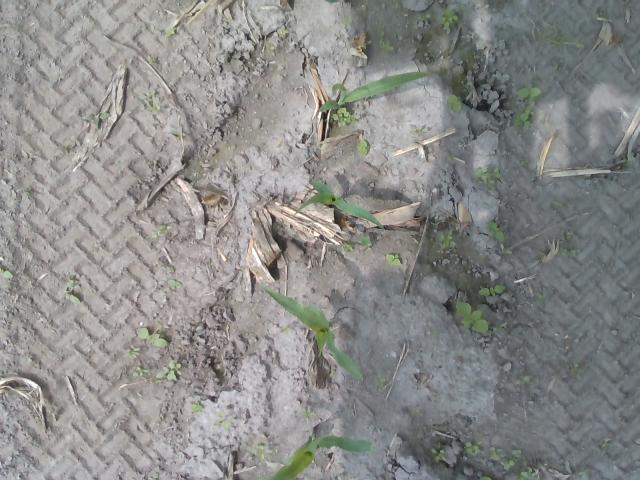Maize: (255, 284, 365, 383), (296, 174, 386, 230), (270, 432, 374, 480)
Weeds: (454, 300, 488, 332), (472, 164, 506, 192), (490, 447, 521, 472), (136, 326, 168, 350), (59, 274, 82, 303), (156, 360, 182, 384), (438, 8, 460, 36), (557, 230, 578, 258), (516, 84, 542, 105), (342, 235, 372, 253), (477, 282, 507, 299), (140, 90, 161, 114), (510, 109, 534, 130), (331, 108, 354, 126), (488, 221, 506, 242), (253, 440, 271, 461), (438, 231, 456, 250), (379, 36, 399, 53), (513, 372, 537, 386), (384, 250, 401, 269), (430, 447, 448, 464), (446, 93, 462, 112), (463, 440, 480, 457), (132, 364, 149, 380), (410, 123, 430, 136), (219, 414, 233, 432), (518, 468, 538, 480), (154, 222, 168, 238), (96, 112, 110, 128), (166, 276, 184, 288), (126, 344, 140, 359), (359, 137, 369, 156), (415, 12, 432, 22), (301, 406, 315, 418), (372, 373, 386, 385), (275, 26, 289, 38), (600, 436, 613, 448), (1, 268, 14, 280), (164, 25, 177, 37), (190, 401, 202, 413)
